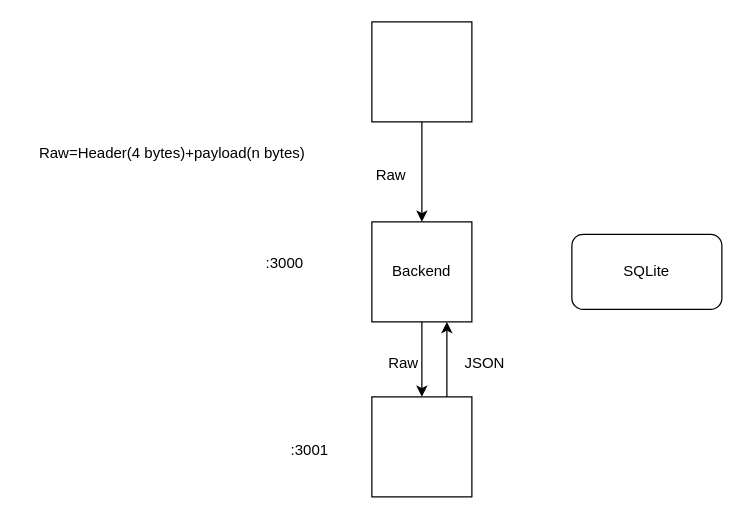
Image size: 744x519. Some labels were removed from this diagram. Each missing label, with the centre of its shape:
Frontend: point (421, 71)
Python: point (421, 446)
